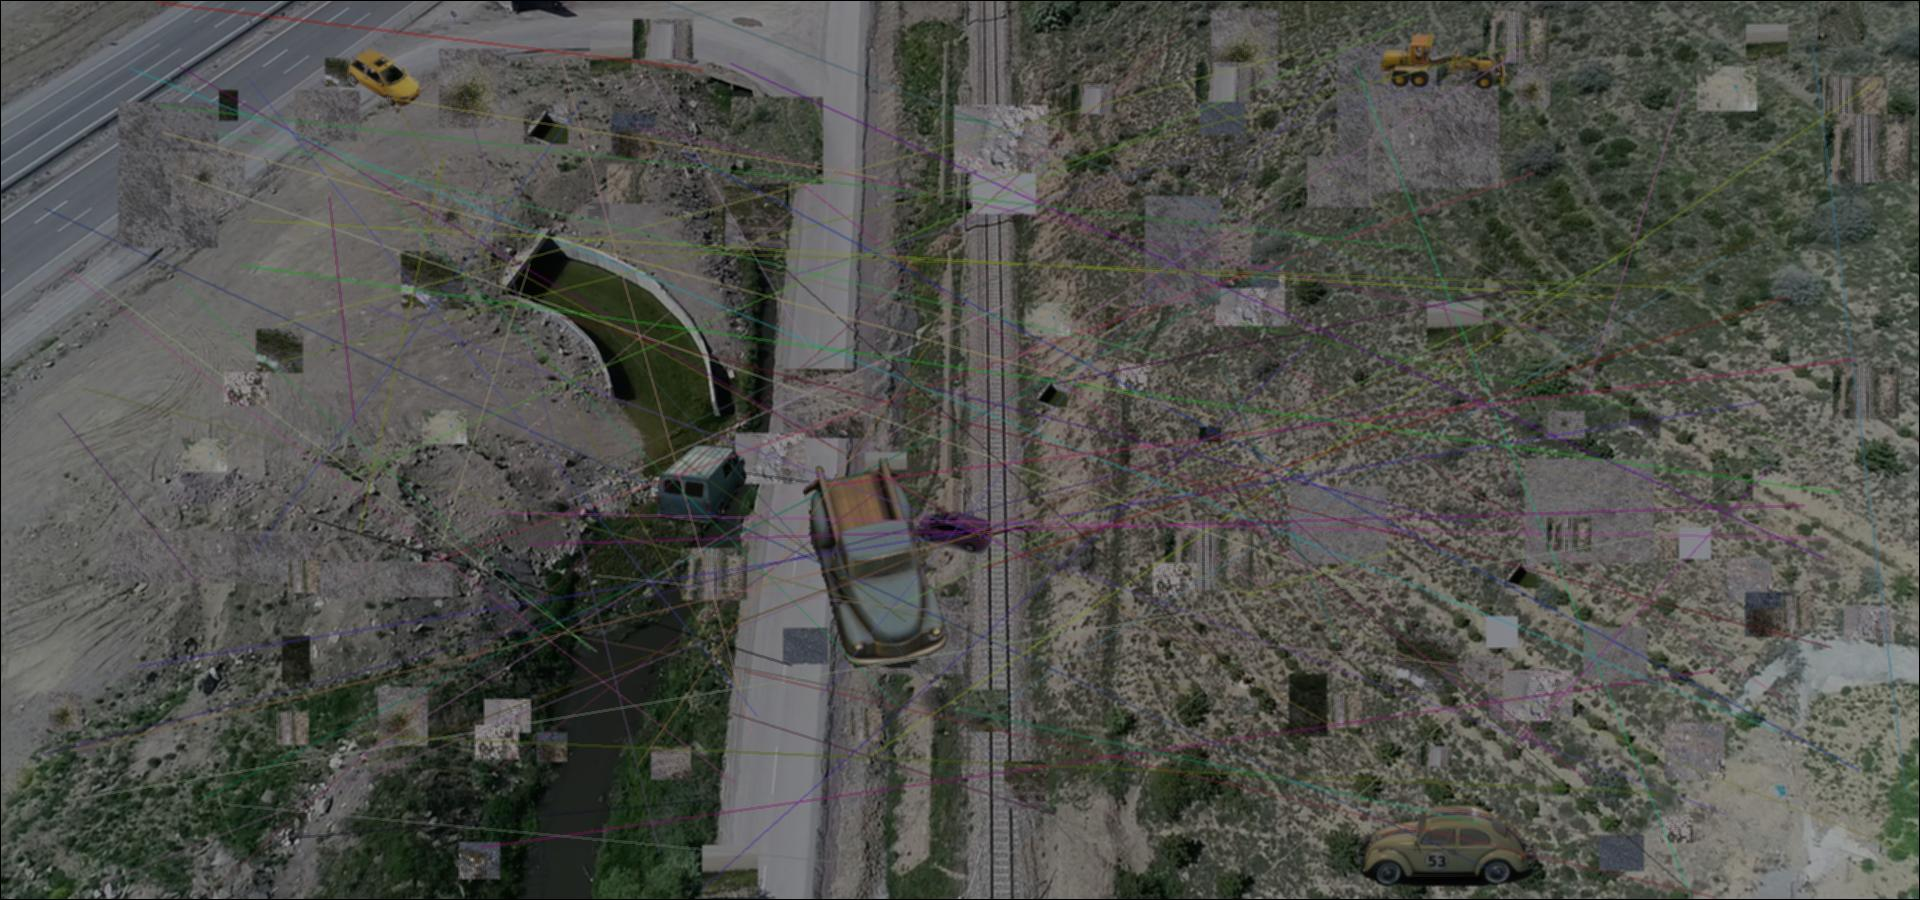arac: (797, 458, 949, 669), (1352, 804, 1540, 888), (654, 440, 749, 525), (1374, 32, 1509, 91), (348, 48, 421, 108), (916, 511, 994, 555)
